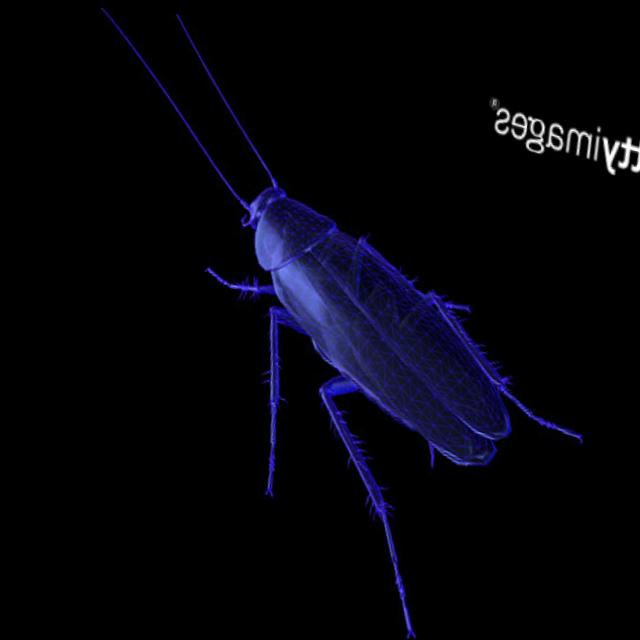Cockroach: (2, 29, 640, 640)
